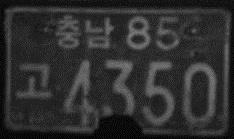0: (181, 60, 217, 130)
3: (100, 56, 137, 128)
4: (60, 57, 97, 128)
5: (139, 57, 175, 128), (155, 14, 181, 53)
8: (126, 13, 151, 51)
고: (15, 58, 52, 100)
충남_O: (54, 12, 116, 50)
